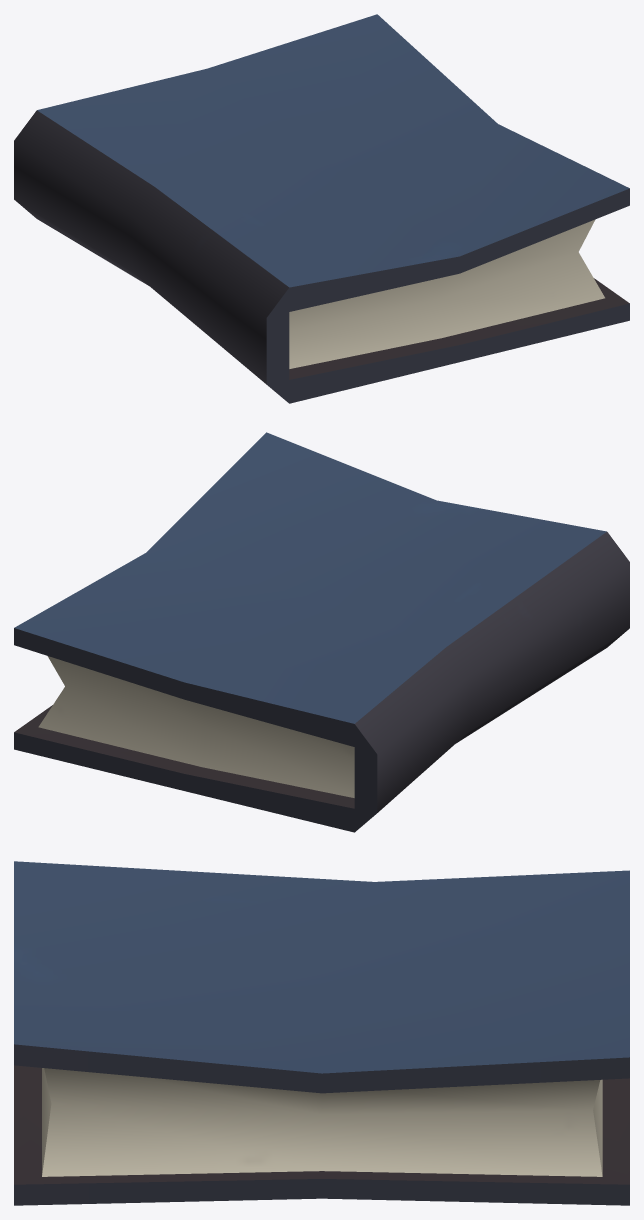
Rendered from Book.fbx.
3 renders of one model, top to bottom at view 1: azimuth 30°, elevation 25°; view 2: azimuth 150°, elevation 25°; view 3: azimuth 270°, elevation 25°, orthographic. The views are drawn at different scales.
Visible parts, largest first — view 1: book_1.009; view 2: book_1.009; view 3: book_1.009.
Boxes of the visible parts, x1,y1,x2,y2 form: book_1.009: (14,14,629,403); book_1.009: (14,432,629,832); book_1.009: (14,861,629,1205).
Size of the model in its own units: 34.7 by 12.07 by 41.77.
1 material, 1 textured.
